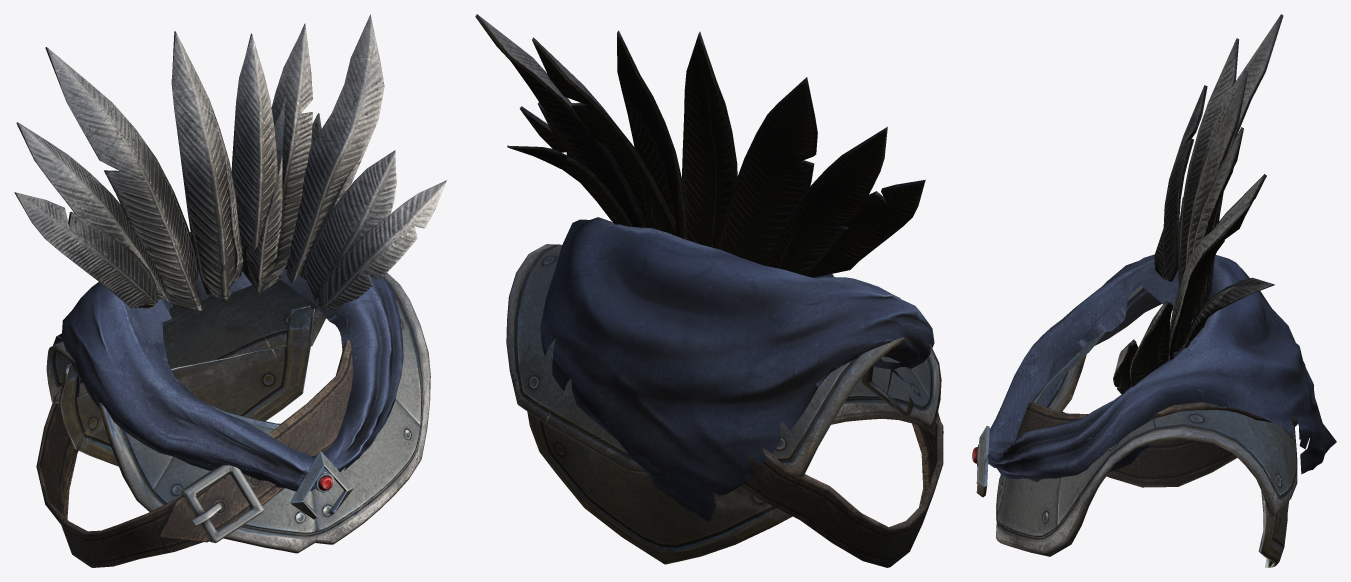
Rendered from sm_dwarf_varnaic_chest_add.gltf.
3 renders of one model, left to right at view 1: azimuth 30°, elevation 25°; view 2: azimuth 150°, elevation 25°; view 3: azimuth 270°, elevation 25°, orthographic. The views are drawn at different scales.
Parts seen in each view (by area): view 1: sm_dwarf_varnaic_chest_add; view 2: sm_dwarf_varnaic_chest_add; view 3: sm_dwarf_varnaic_chest_add.
Part boxes in pixels (bbox=[...]): sm_dwarf_varnaic_chest_add: bbox=[14, 14, 446, 567]; sm_dwarf_varnaic_chest_add: bbox=[475, 14, 943, 567]; sm_dwarf_varnaic_chest_add: bbox=[972, 14, 1336, 567].
Bounding box in the file's own units: 74.49 × 84.71 × 57.36.
